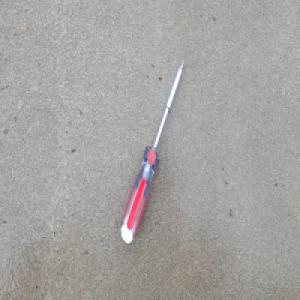Screwdriver: (120, 57, 186, 246)
